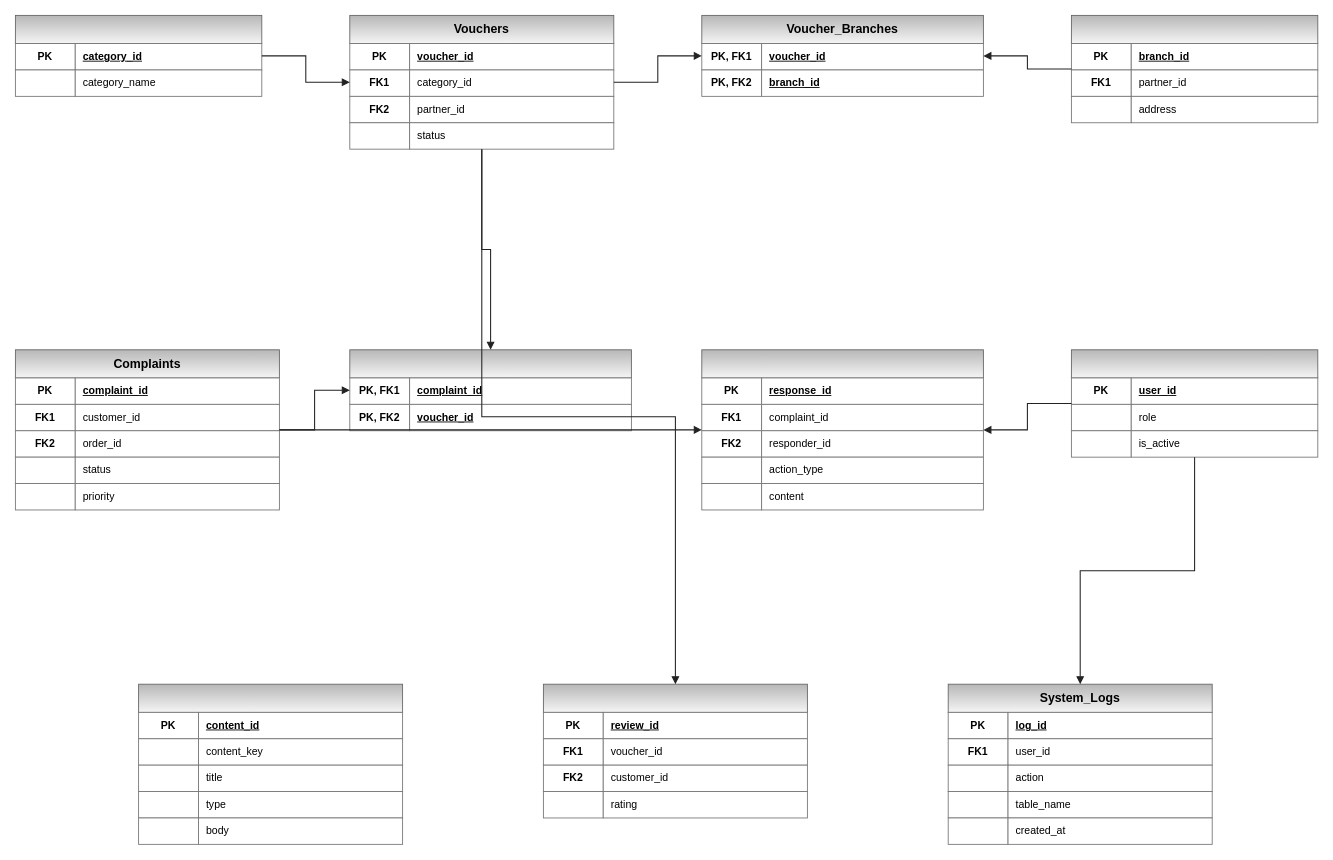
Some shapes in this 1333 by 860 pixel diagram are drawn without their labels. Here are the shapes that lost their labels. From the top down, the centre of each, then its label:
pixel 138 29: Categories
pixel 1194 29: Branches
pixel 490 363: Complaint_Vouchers
pixel 842 363: Complaint_Responses
pixel 1194 363: Users
pixel 270 697: Content_Items
pixel 675 697: Reviews
